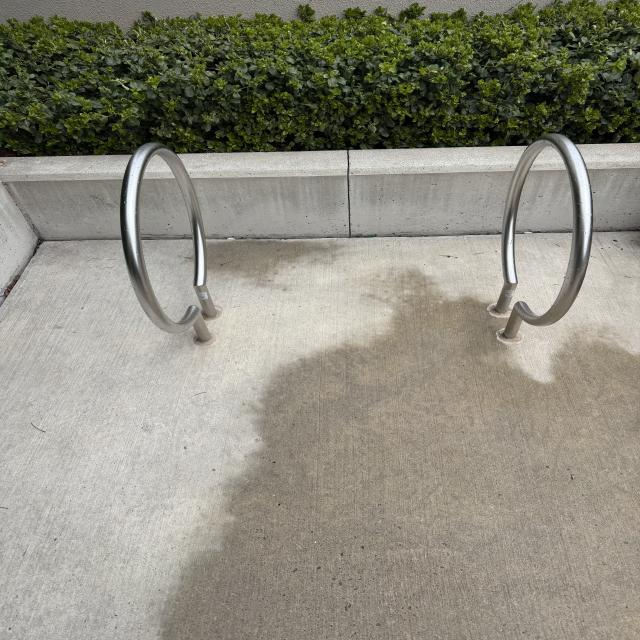Bicycle Rack: (490, 128, 597, 344), (119, 142, 218, 350)
